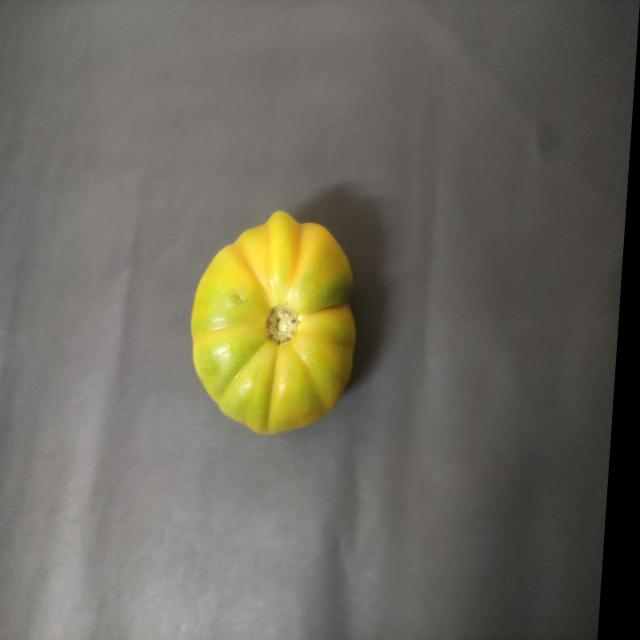yesil: (184, 188, 387, 459)
